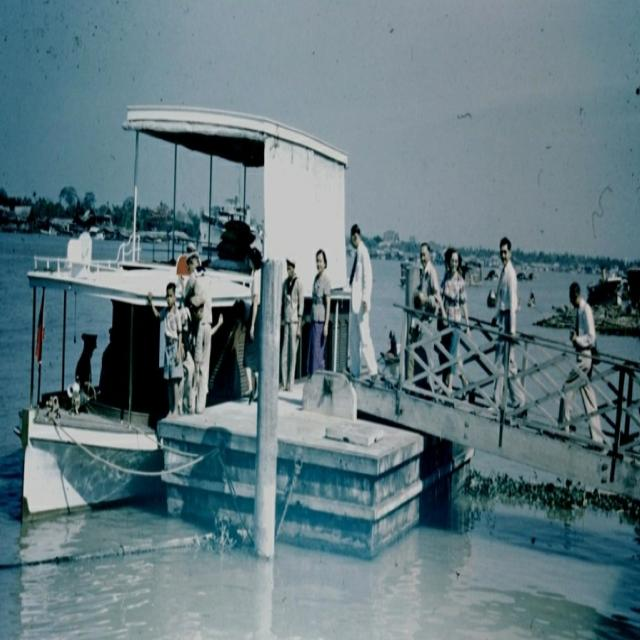Boat: (27, 84, 395, 494), (40, 207, 264, 246), (456, 255, 484, 293), (0, 207, 34, 233), (400, 257, 420, 283)
